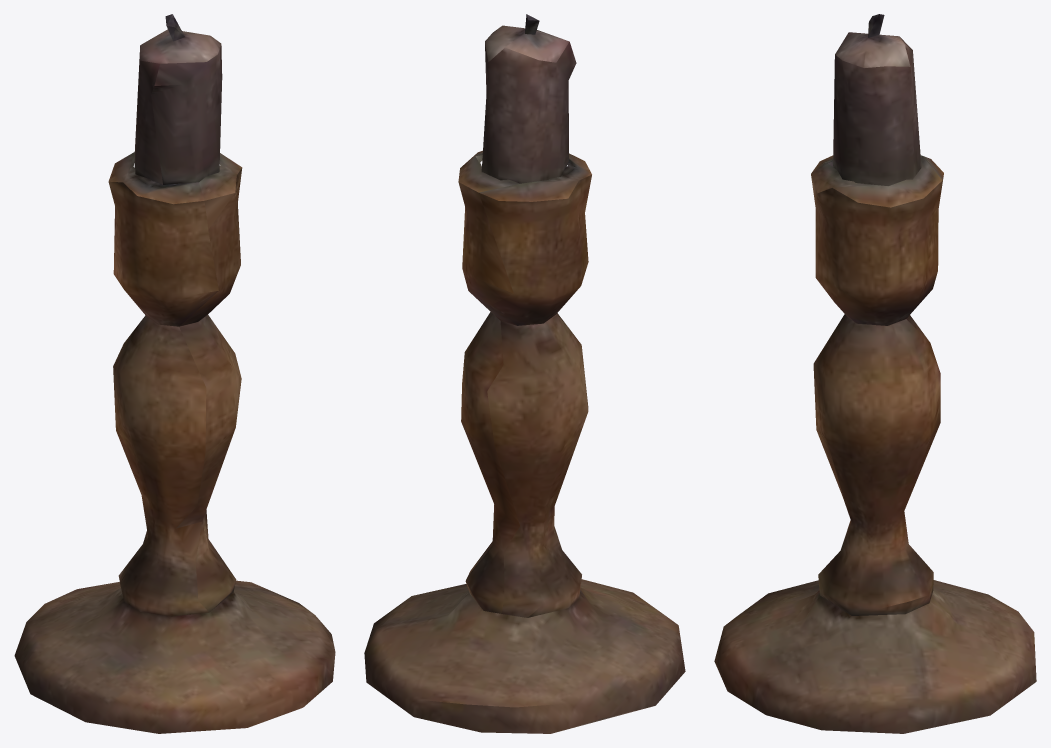
The model's file is candlestick.glb.
3 renders of one model, left to right at view 1: azimuth 30°, elevation 25°; view 2: azimuth 150°, elevation 25°; view 3: azimuth 270°, elevation 25°, orthographic.
Parts seen in each view (by area): view 1: candlestick; view 2: candlestick; view 3: candlestick.
Part boxes in pixels (x1,y1,x2,y2): candlestick: (14,14,335,733); candlestick: (364,14,685,733); candlestick: (714,14,1036,733).
Size of the model in its own units: 0.0973 by 0.2195 by 0.0983.
1 material, 1 textured.
